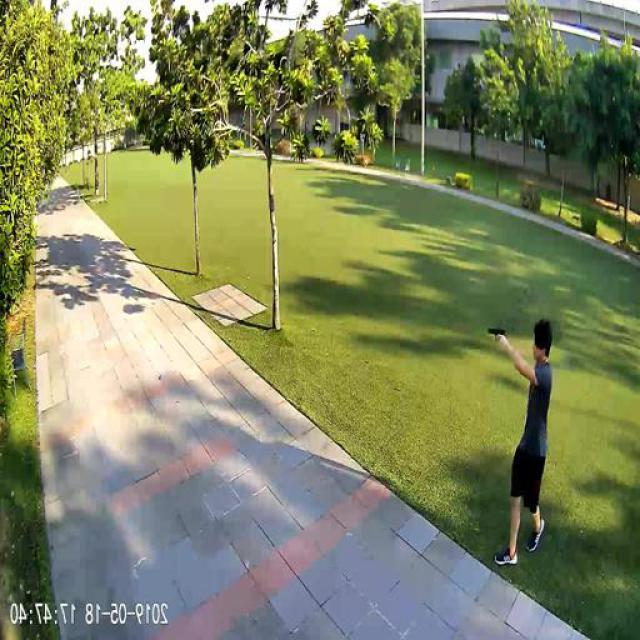Gun: (490, 325, 509, 341)
